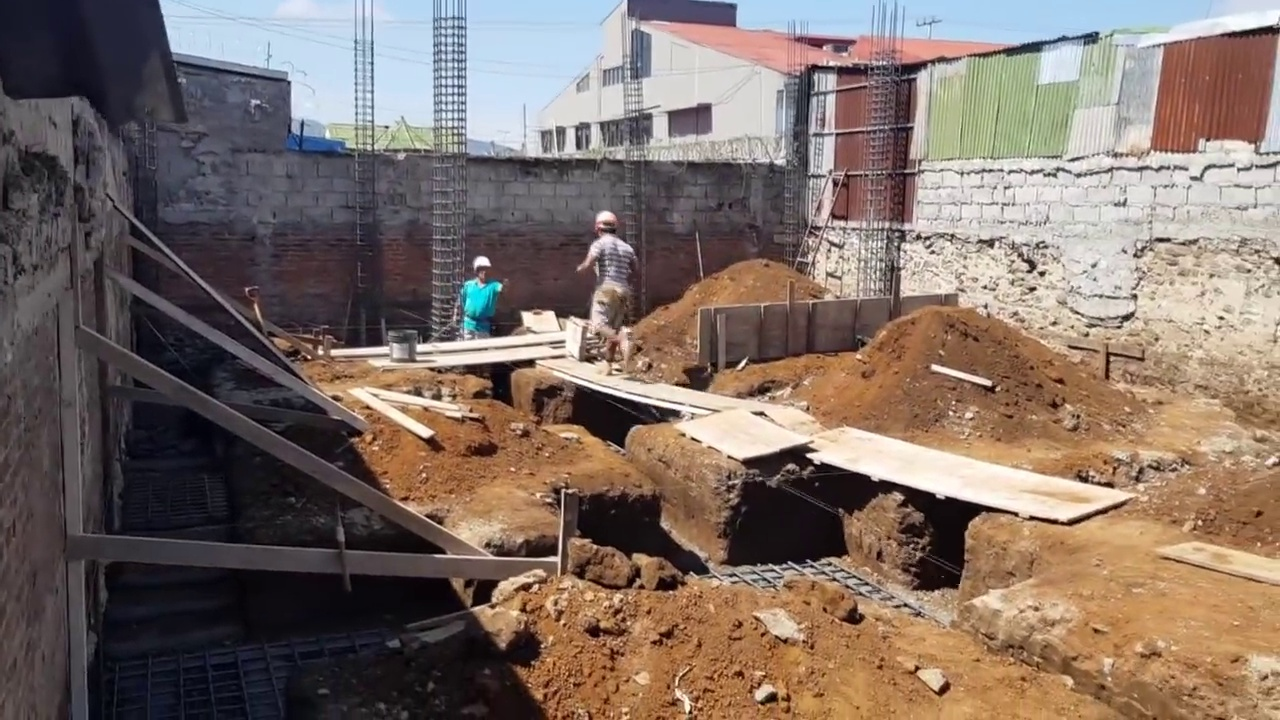helmet: (593, 209, 620, 226), (471, 255, 493, 272)
helmet-on: (592, 208, 619, 241), (471, 255, 492, 282)
person: (570, 208, 641, 379), (453, 256, 502, 337)
